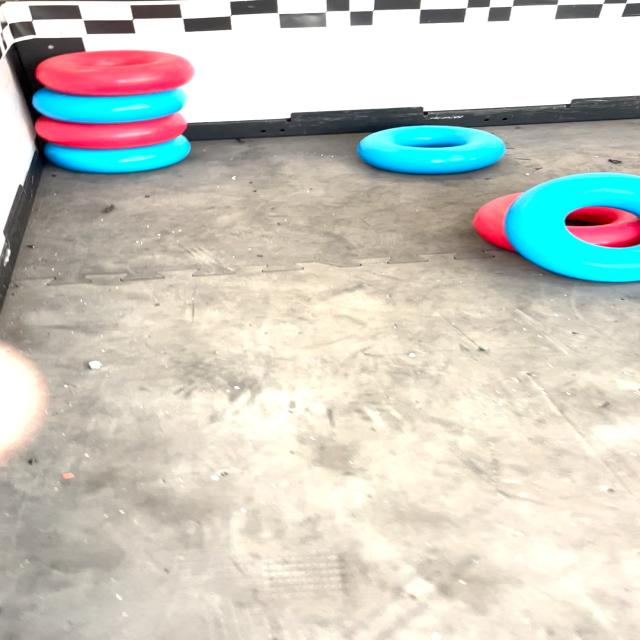Blue-Ring: (504, 172, 639, 282), (358, 125, 504, 174), (33, 88, 187, 124), (44, 136, 191, 172)
Red-Ring: (36, 50, 193, 96), (36, 112, 187, 149)
